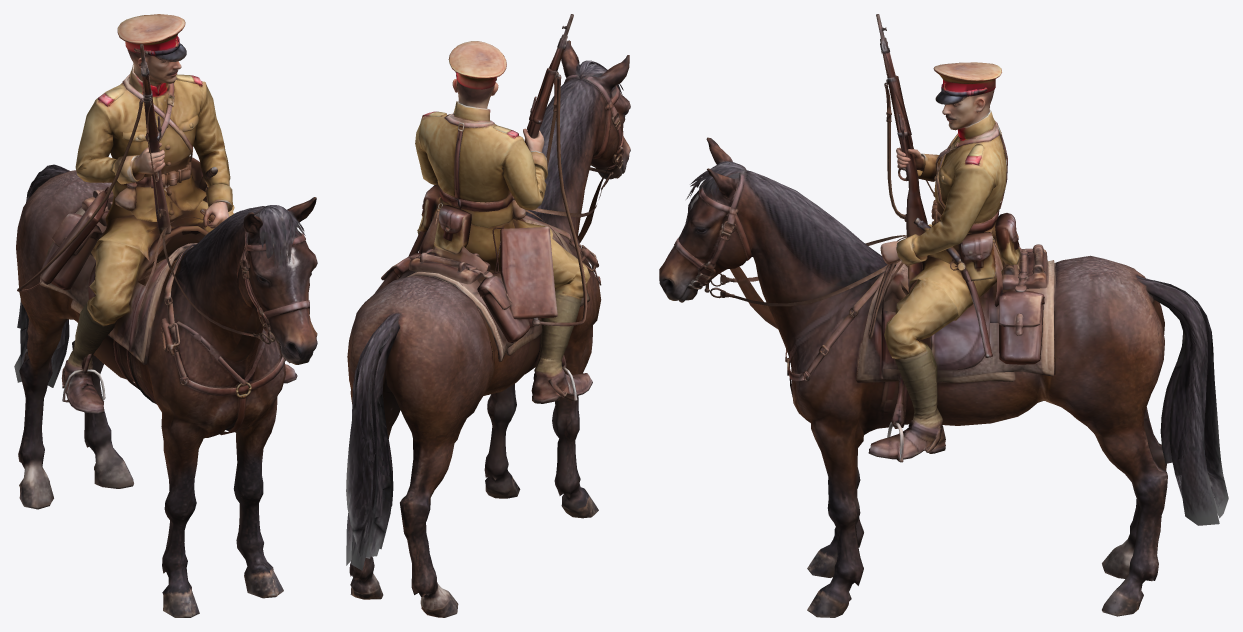
The model's file is soldier_4.glb.
3 views of the same model, side by side, from view 1: azimuth 30°, elevation 25°; view 2: azimuth 150°, elevation 25°; view 3: azimuth 270°, elevation 25° (orthographic). The views are drawn at different scales.
Parts seen in each view (by area): view 1: tripo_node_1a748264-da26-4b68-b2b4-c31b13835140; view 2: tripo_node_1a748264-da26-4b68-b2b4-c31b13835140; view 3: tripo_node_1a748264-da26-4b68-b2b4-c31b13835140.
Boxes of the visible parts, x1,y1,x2,y2 form: tripo_node_1a748264-da26-4b68-b2b4-c31b13835140: (14, 14, 317, 617); tripo_node_1a748264-da26-4b68-b2b4-c31b13835140: (346, 14, 630, 617); tripo_node_1a748264-da26-4b68-b2b4-c31b13835140: (659, 14, 1228, 617).
Bounding box in the file's own units: 0.4263 × 0.9995 × 0.939.
1 material, 1 textured.
